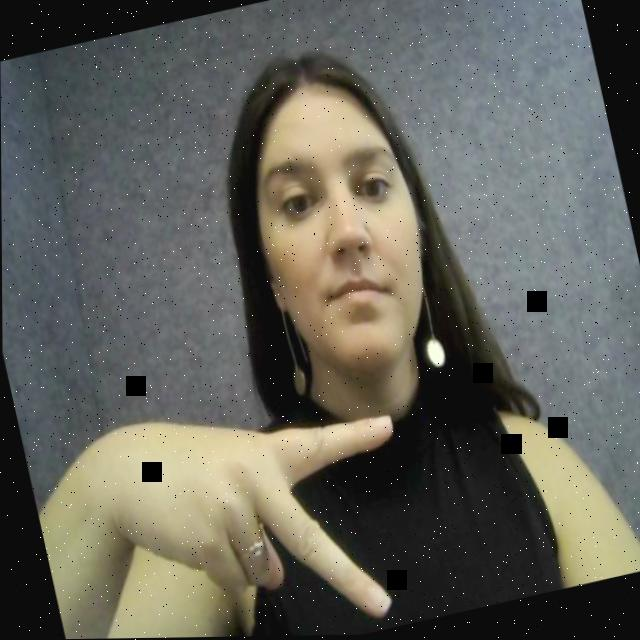Scissors: (90, 362, 441, 639)
